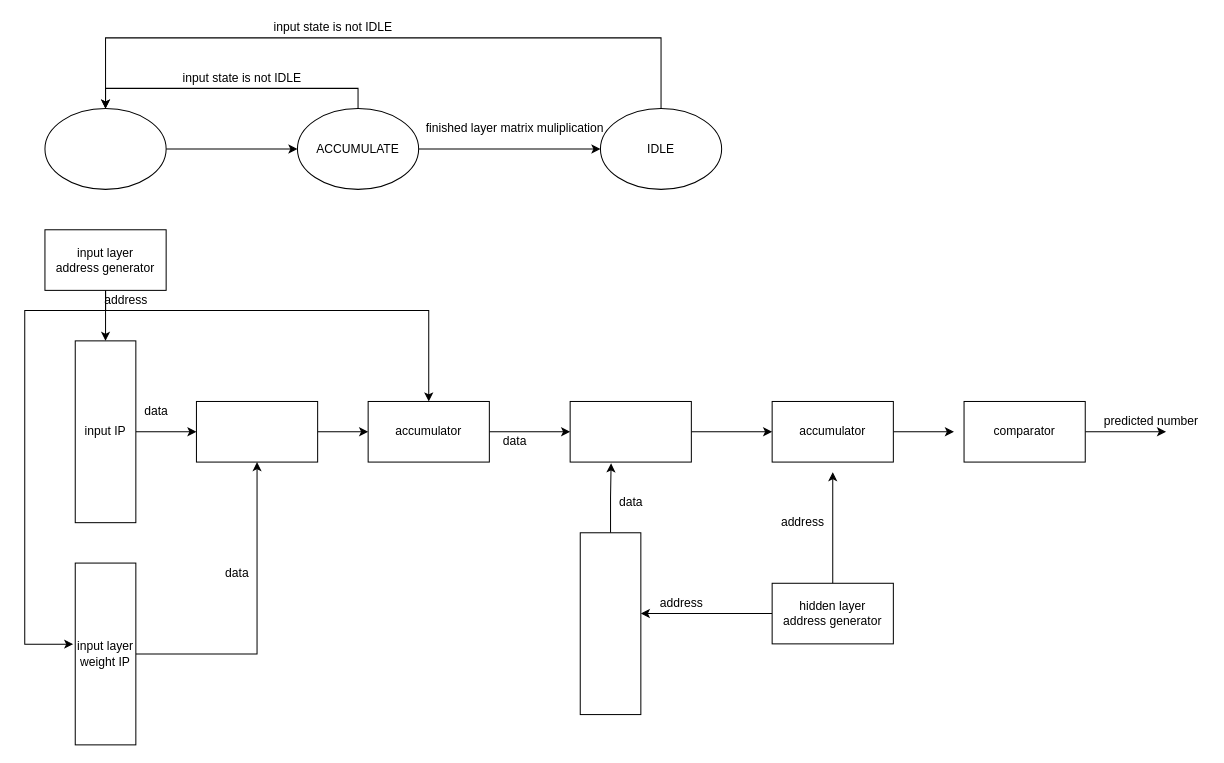
This 1224x763 diagram has some shape labels left out. The centre of each missing label's shape, as x and y in pixels:
adder: pixel 256 431
hidden layer weight IP: pixel 610 623
multiplier: pixel 630 431
RESET: pixel 105 148
